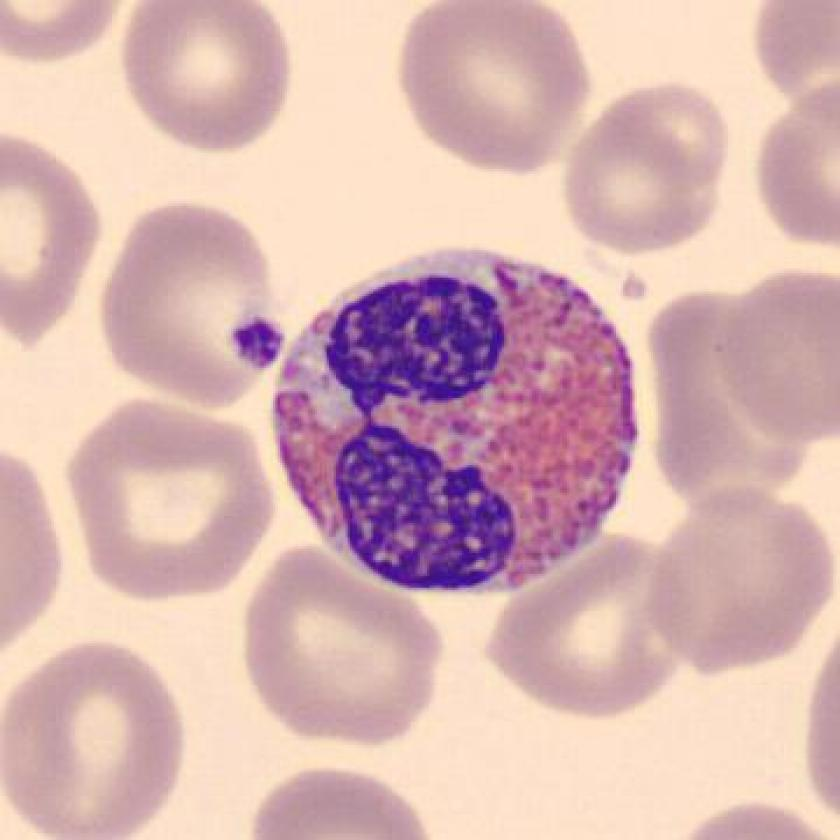eosinophil: (251, 228, 659, 612)
